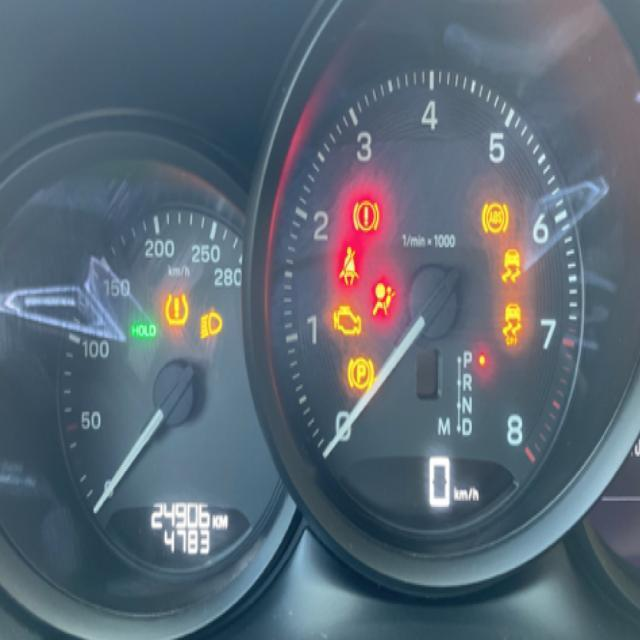Seat Belt: (336, 244, 361, 288)
